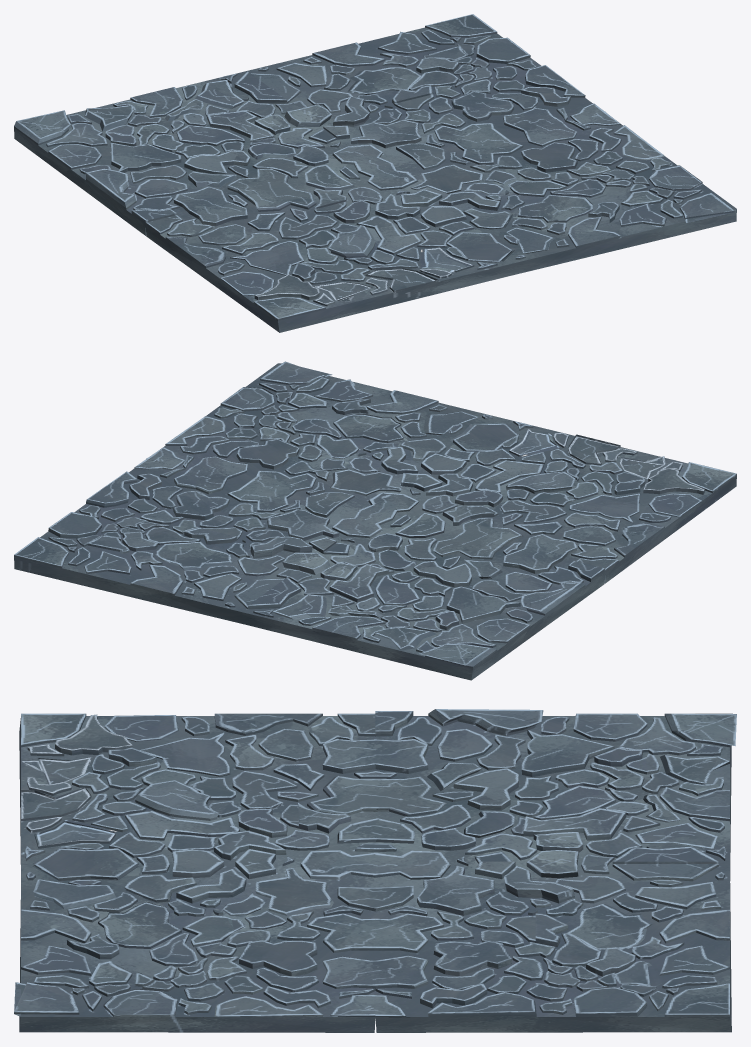
The model's file is ROAD.fbx.
The picture shows the model from 3 angles, top to bottom: view 1: azimuth 30°, elevation 25°; view 2: azimuth 150°, elevation 25°; view 3: azimuth 270°, elevation 25°; orthographic projection. The views are drawn at different scales.
Parts seen in each view (by area): view 1: MainRoad2; view 2: MainRoad2; view 3: MainRoad2.
Part boxes in pixels (box(x1,y1,x2,y2)): MainRoad2: box(14, 14, 736, 332); MainRoad2: box(14, 361, 736, 680); MainRoad2: box(14, 709, 736, 1032).
Size of the model in its own units: 843 by 32.05 by 855.
